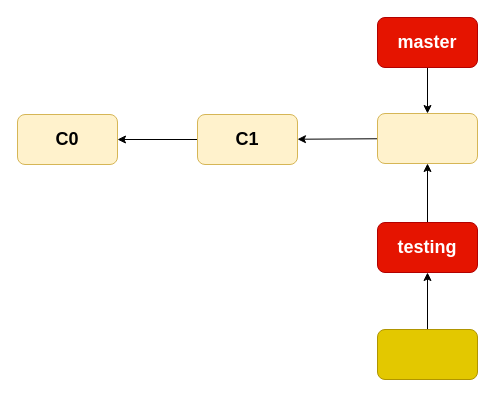
This 495x397 diagram has some shape labels left out. The shapes that lost their labels are listed below. From the top down, each one's centre as x and y in pixels, then its label:
At point (427, 138): "C2".
At point (427, 354): "HEAD".
